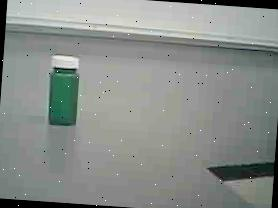Bottle C: (38, 50, 92, 136)
